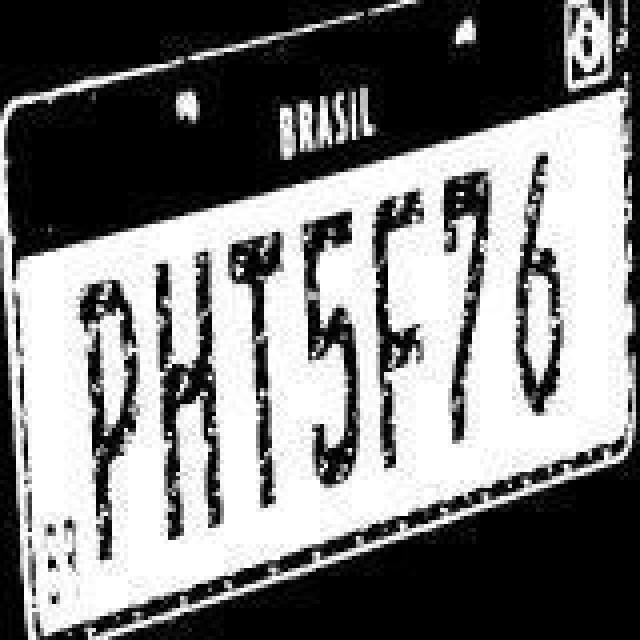5: (296, 206, 360, 482)
6: (512, 148, 576, 412)
7: (436, 170, 508, 446)
F: (372, 190, 428, 466)
H: (152, 250, 224, 534)
P: (76, 278, 140, 554)
T: (226, 228, 294, 500)
